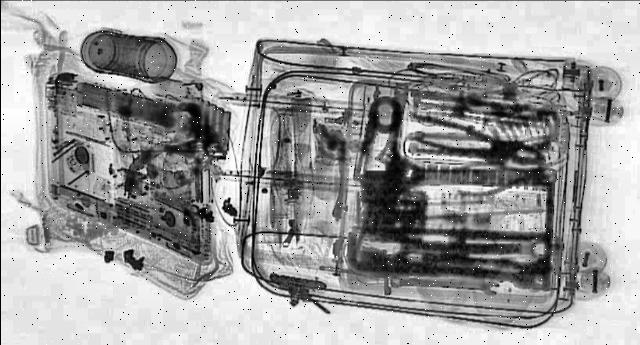Pliers: (390, 114, 558, 173), (444, 160, 554, 200)
